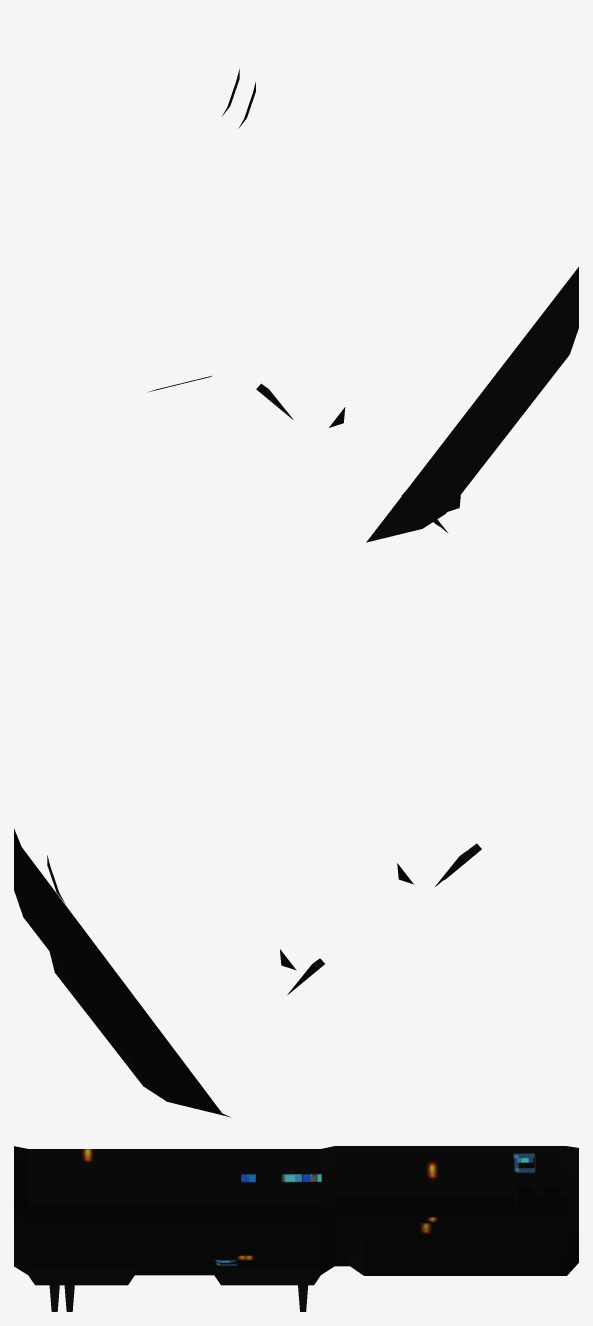
File: hangar_hgn_explorer_02_basic_01_left.glb
The picture shows the model from 3 angles, top to bottom: view 1: azimuth 30°, elevation 25°; view 2: azimuth 150°, elevation 25°; view 3: azimuth 270°, elevation 25°; orthographic projection. The views are drawn at different scales.
Parts seen in each view (by area): view 1: hangar_explorer_02_s_LOD0; view 2: hangar_explorer_02_s_LOD0; view 3: hangar_explorer_02_s_LOD0.
Boxes of the visible parts, left/top/right/bottom form: hangar_explorer_02_s_LOD0: left=148, top=69, right=578, bottom=542; hangar_explorer_02_s_LOD0: left=14, top=828, right=481, bottom=1117; hangar_explorer_02_s_LOD0: left=14, top=1146, right=578, bottom=1311.
Size of the model in its own units: 0.6041 by 0.6713 by 1.66.
1 material, 1 textured.
